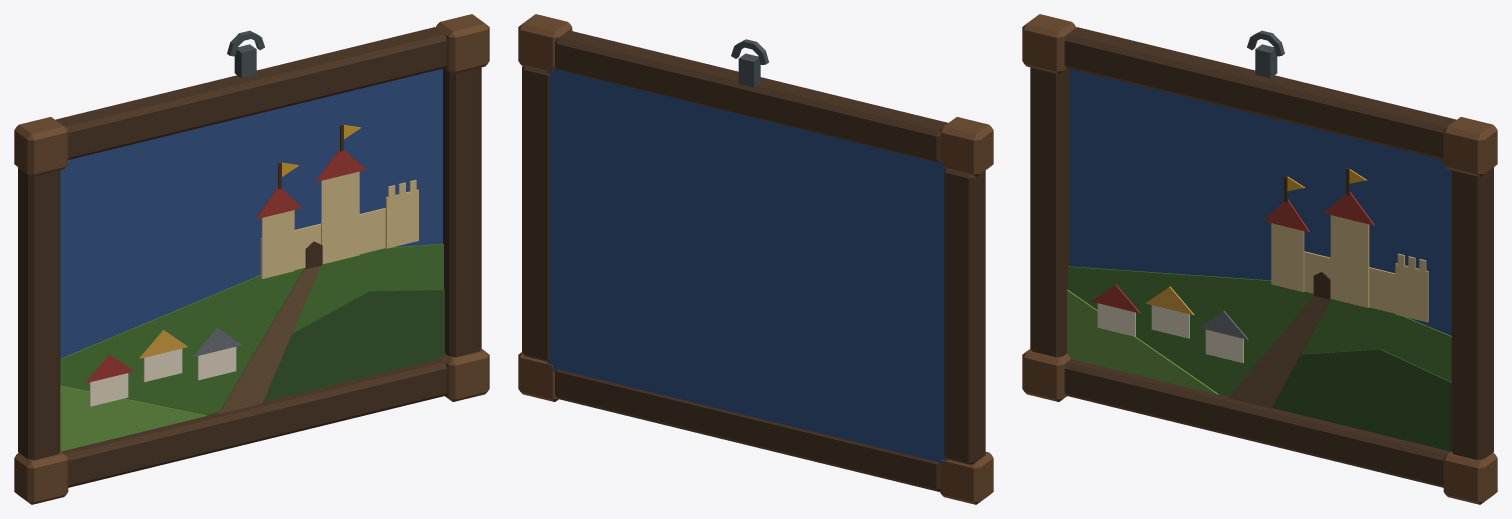
The model's file is mdvl_interiors_painting_01.glb.
The picture shows the model from 3 angles, left to right: view 1: azimuth 30°, elevation 25°; view 2: azimuth 150°, elevation 25°; view 3: azimuth 330°, elevation 25°; orthographic projection.
Visible parts, largest first — view 1: mdvl_interiors_painting_01; view 2: mdvl_interiors_painting_01; view 3: mdvl_interiors_painting_01.
Part boxes in pixels (x1,y1,x2,y2): mdvl_interiors_painting_01: (14,14,489,504); mdvl_interiors_painting_01: (518,14,993,504); mdvl_interiors_painting_01: (1022,14,1497,504).
Size of the model in its own units: 0.856 by 0.721 by 0.06.
Materials: 1 (1 with a texture image).
